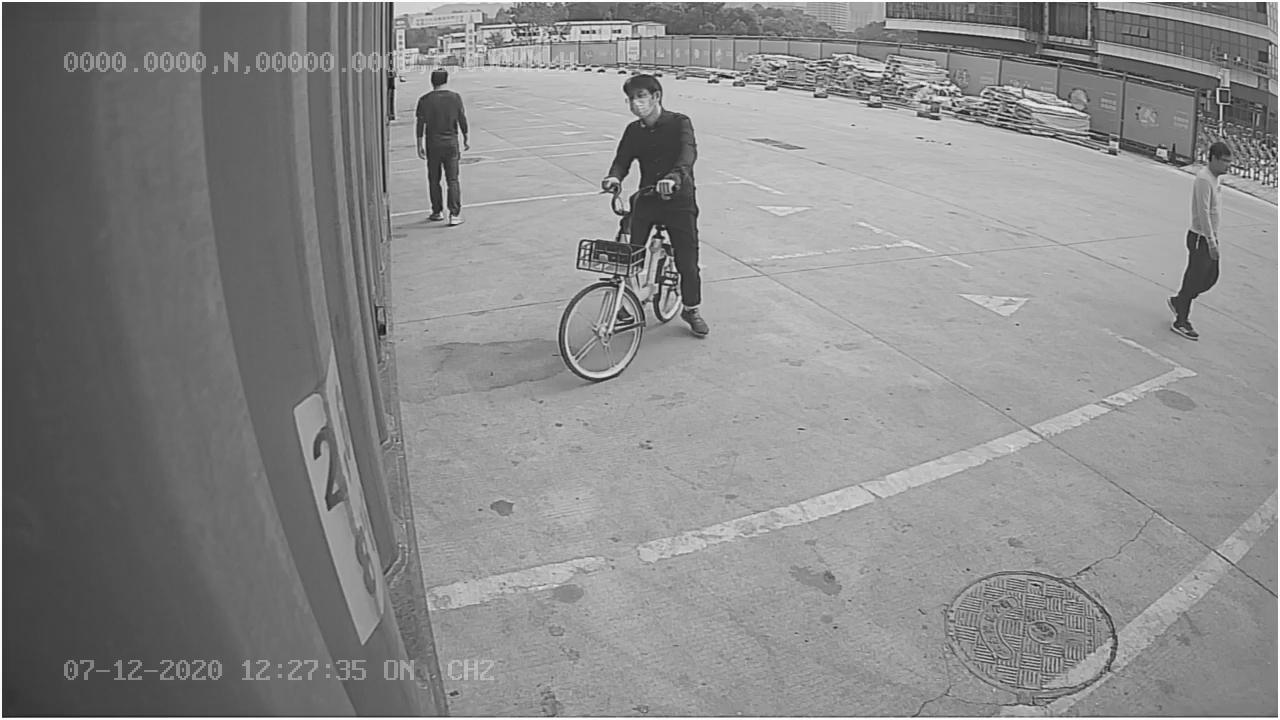person: (409, 64, 475, 226)
